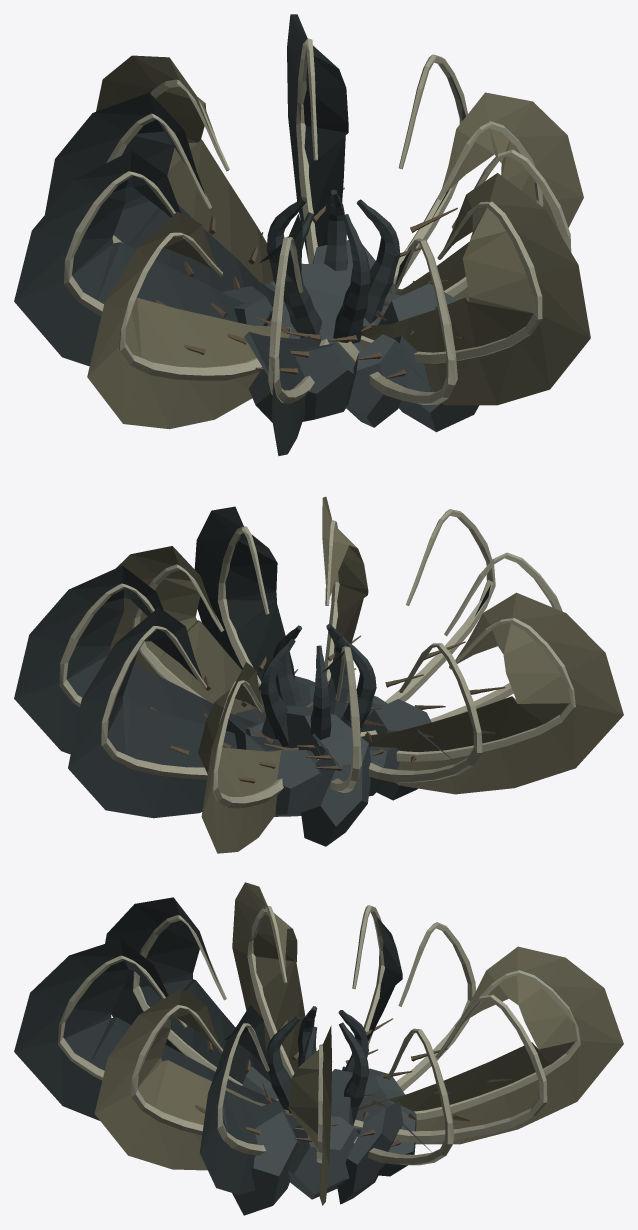
File: blind-rosette.glb
The picture shows the model from 3 angles, top to bottom: view 1: azimuth 30°, elevation 25°; view 2: azimuth 150°, elevation 25°; view 3: azimuth 270°, elevation 25°; orthographic projection. The views are drawn at different scales.
Visible parts, largest first — view 1: Dry ochre membranes, Carbonised mineral bark, Pale fossil ribs, Basalt matrix, Extinguished copper veins; view 2: Carbonised mineral bark, Dry ochre membranes, Pale fossil ribs, Basalt matrix, Extinguished copper veins; view 3: Dry ochre membranes, Carbonised mineral bark, Pale fossil ribs, Basalt matrix, Extinguished copper veins.
Boxes of the visible parts, x1=… form: Dry ochre membranes: x1=87, y1=55, x2=590, y2=429; Carbonised mineral bark: x1=14, y1=14, x2=465, y2=456; Pale fossil ribs: x1=64, y1=38, x2=571, y2=404; Basalt matrix: x1=222, y1=240, x2=479, y2=432; Extinguished copper veins: x1=156, y1=187, x2=461, y2=378; Carbonised mineral bark: x1=14, y1=506, x2=490, y2=818; Dry ochre membranes: x1=110, y1=496, x2=623, y2=853; Pale fossil ribs: x1=59, y1=509, x2=575, y2=808; Basalt matrix: x1=226, y1=676, x2=431, y2=846; Extinguished copper veins: x1=150, y1=635, x2=505, y2=783; Dry ochre membranes: x1=94, y1=882, x2=623, y2=1205; Carbonised mineral bark: x1=14, y1=897, x2=432, y2=1194; Pale fossil ribs: x1=58, y1=905, x2=580, y2=1165; Basalt matrix: x1=232, y1=1066, x2=416, y2=1215; Extinguished copper veins: x1=195, y1=1018, x2=510, y2=1146.
Size of the model in its own units: 2.44 by 1.25 by 2.86.
